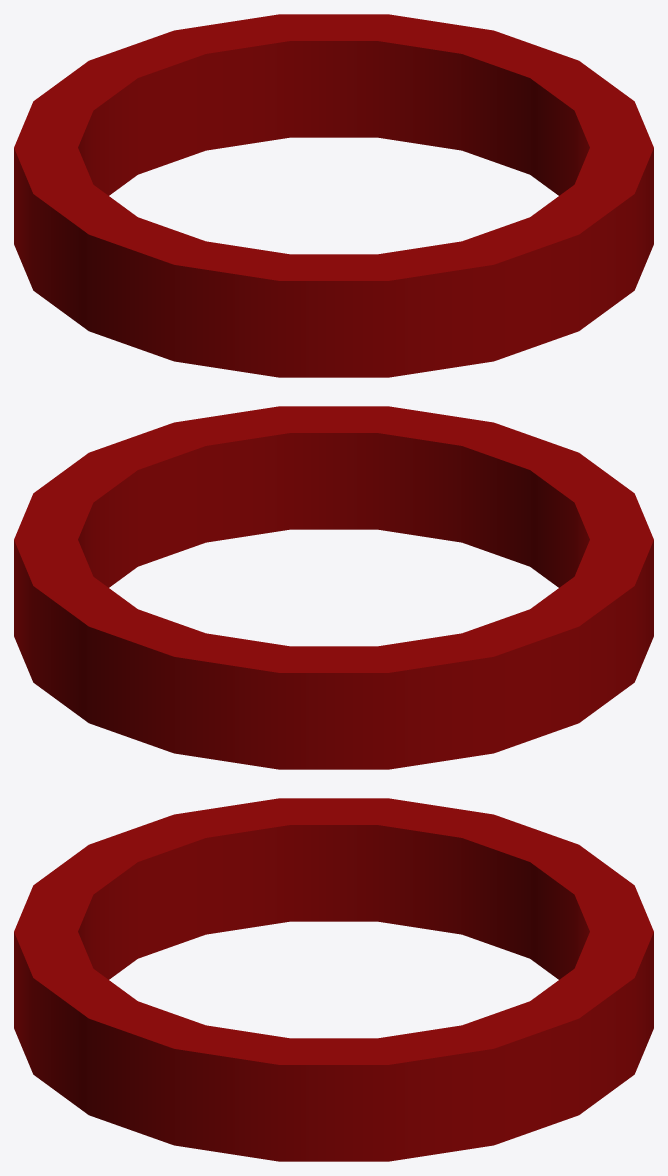
Rendered from Ring.FBX.
The picture shows the model from 3 angles, top to bottom: view 1: azimuth 30°, elevation 25°; view 2: azimuth 150°, elevation 25°; view 3: azimuth 270°, elevation 25°; orthographic projection.
Visible parts, largest first — view 1: Tube001; view 2: Tube001; view 3: Tube001.
Part boxes in pixels (left/top/right/bottom): Tube001: left=14, top=14, right=653, bottom=377; Tube001: left=14, top=406, right=653, bottom=769; Tube001: left=14, top=798, right=653, bottom=1161.
Bounding box in the file's own units: 1.16 × 0.1969 × 1.18.
